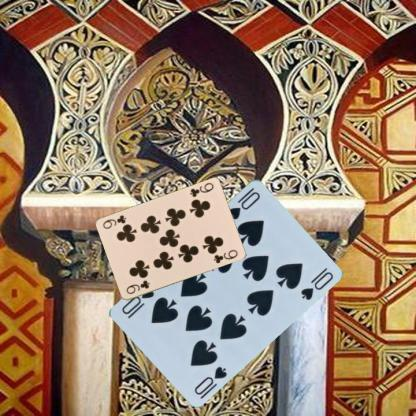10s: (224, 188, 262, 221), (191, 363, 229, 396)
9c: (187, 180, 215, 199), (124, 278, 150, 296)
